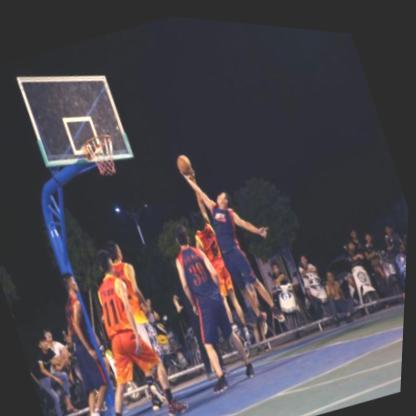basketball: (175, 148, 195, 173)
